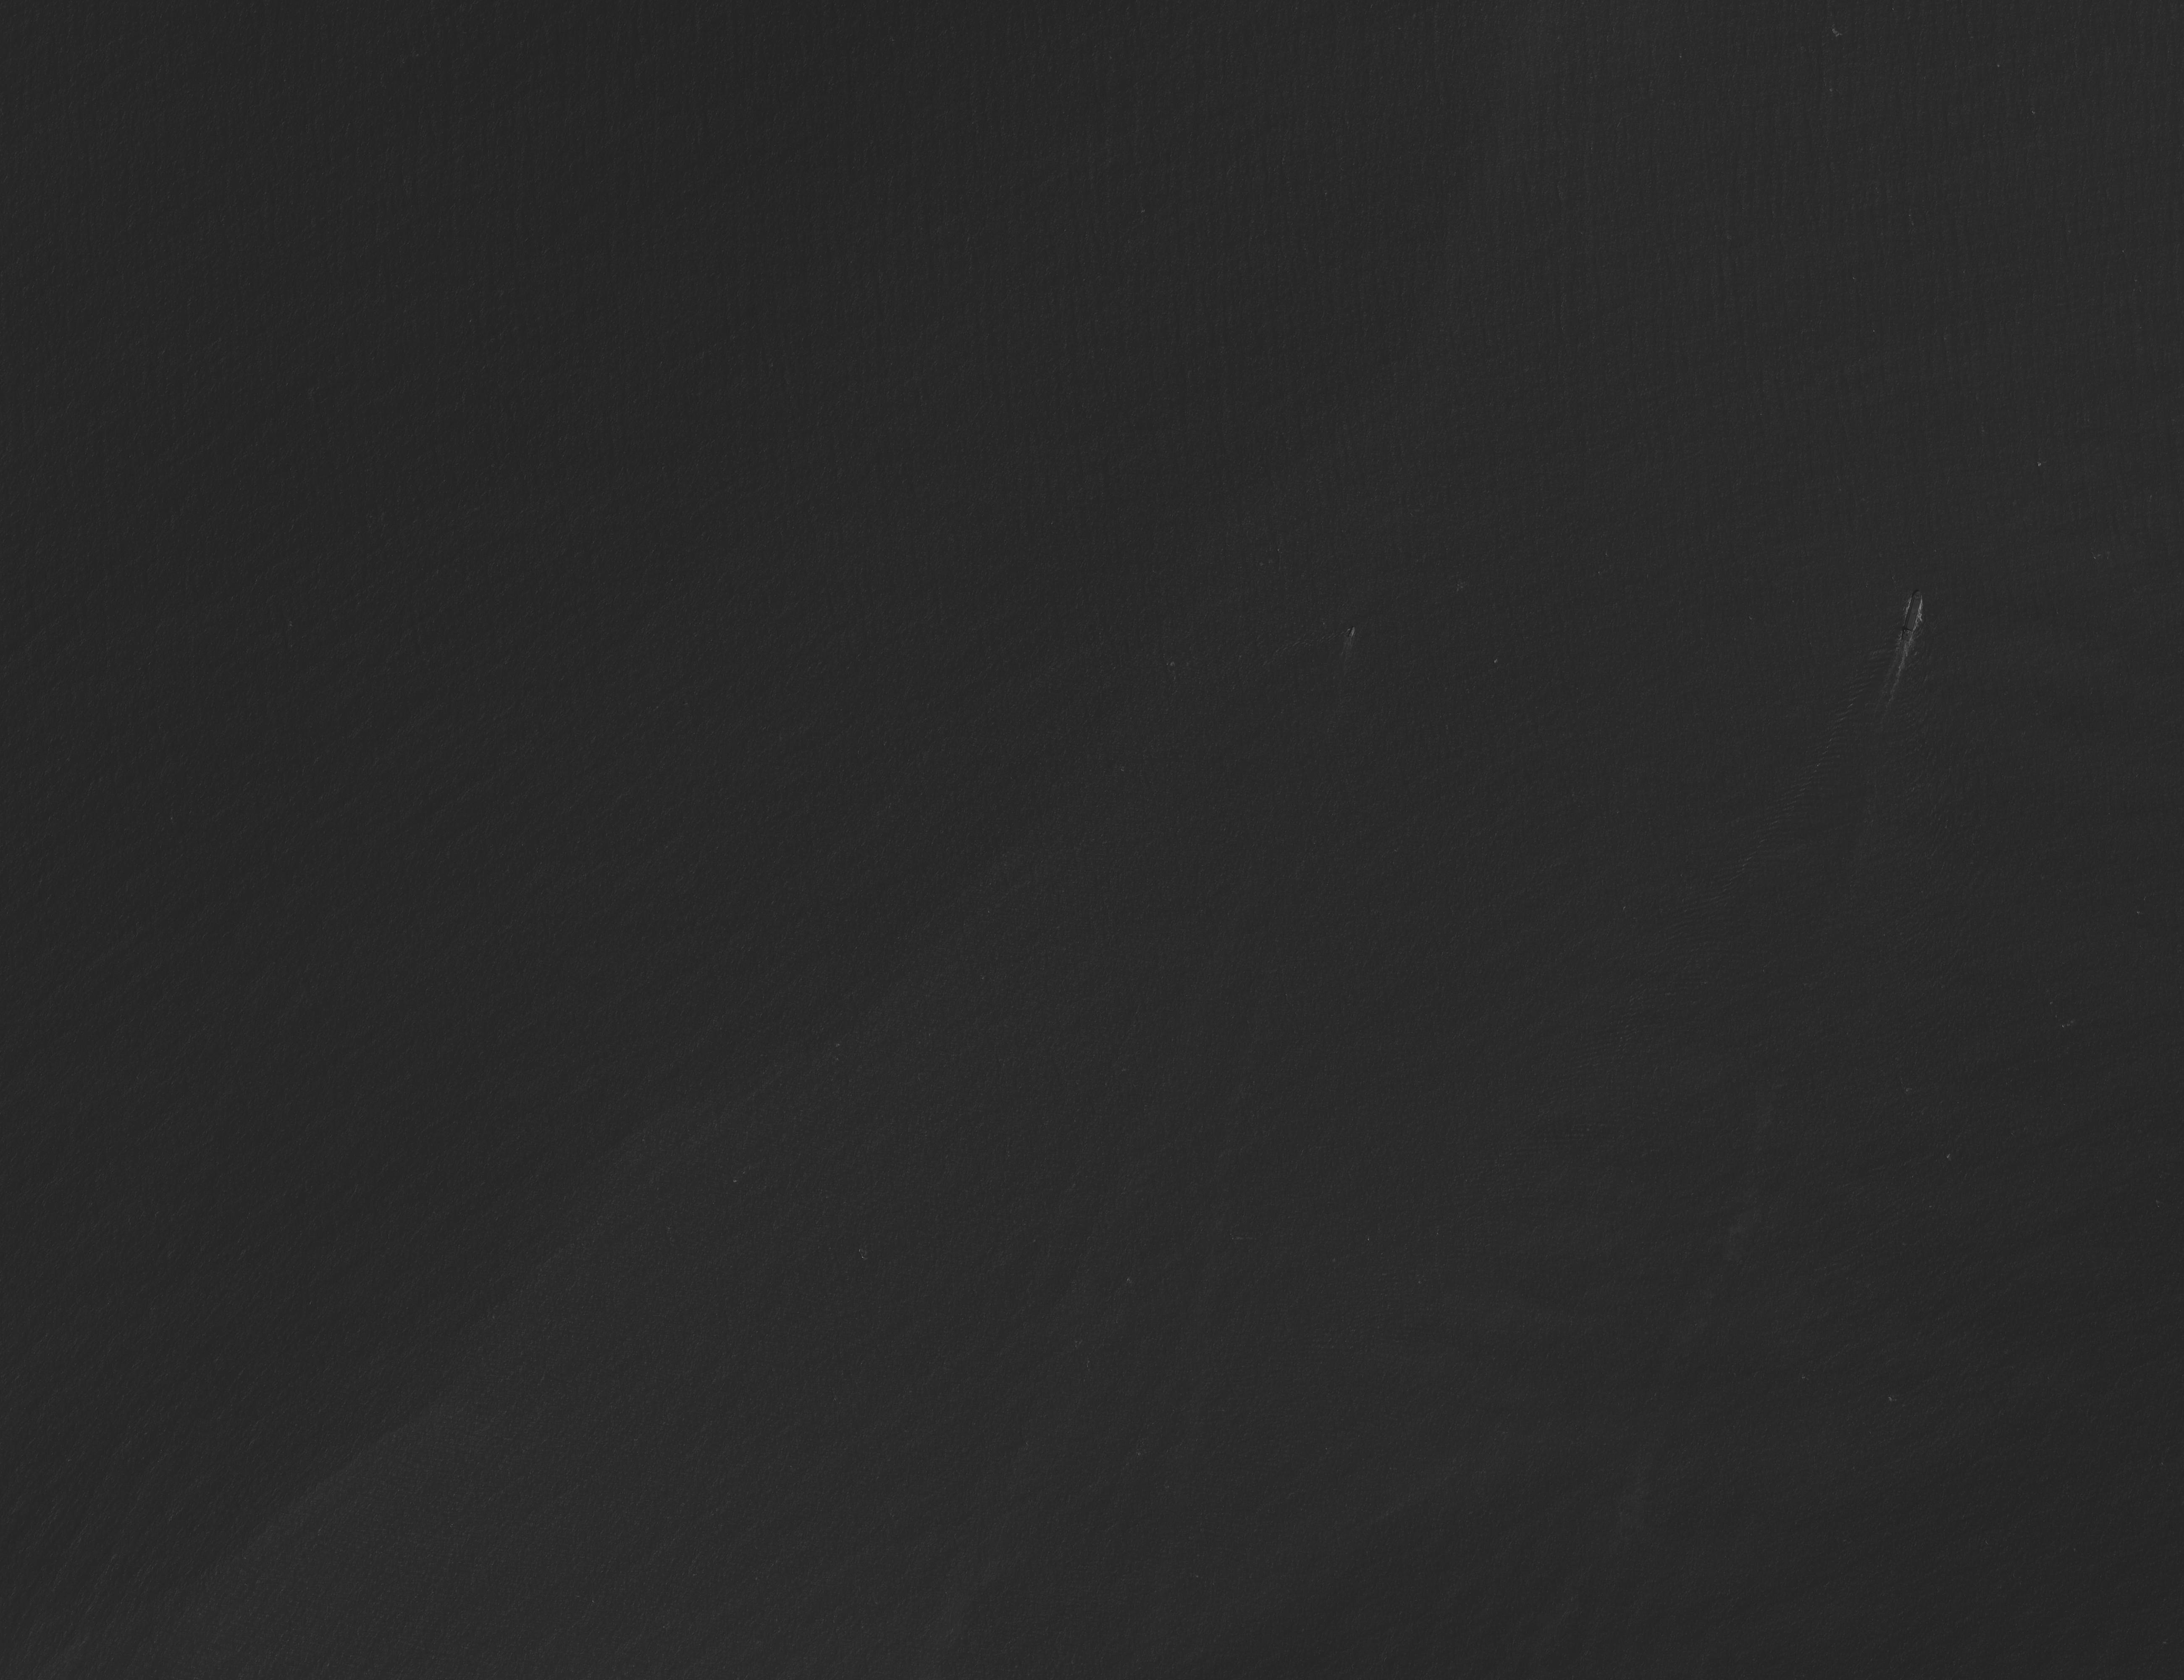ship: (1900, 589, 1923, 642), (1348, 626, 1357, 639)
